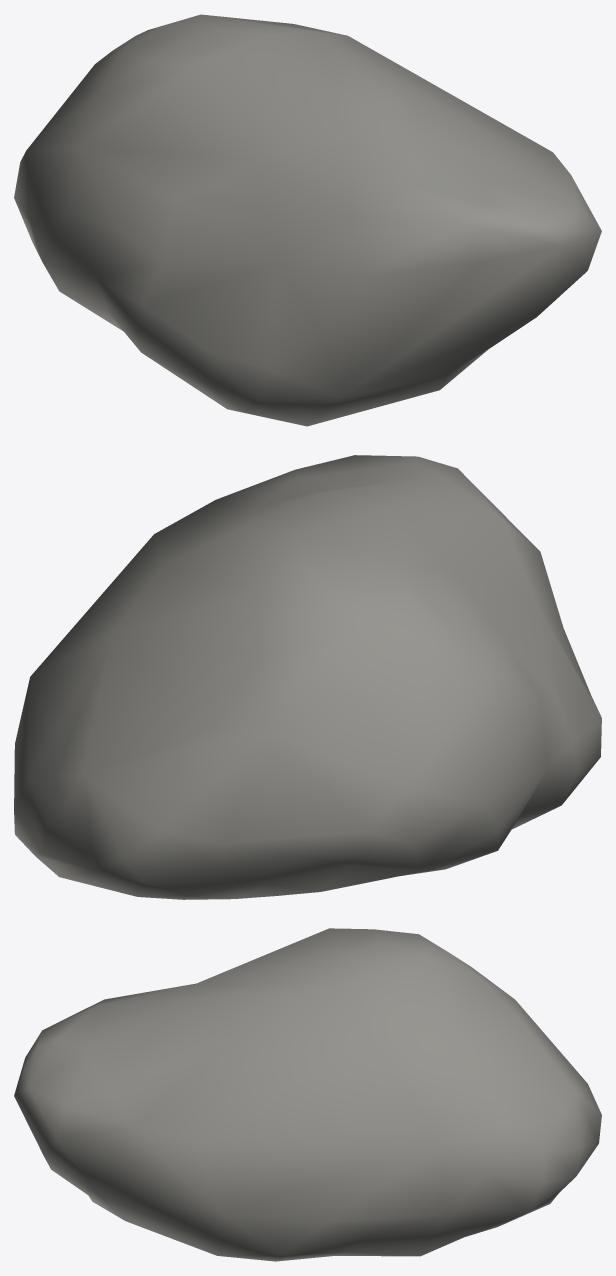
File: Sm_Rocks11L.fbx
3 views of the same model, one above another, from view 1: azimuth 30°, elevation 25°; view 2: azimuth 150°, elevation 25°; view 3: azimuth 270°, elevation 25° (orthographic). The views are drawn at different scales.
Parts seen in each view (by area): view 1: Sm_Rocks11L; view 2: Sm_Rocks11L; view 3: Sm_Rocks11L.
Part boxes in pixels (box(x1,y1,x2,y2)): Sm_Rocks11L: box(14, 14, 601, 426); Sm_Rocks11L: box(14, 455, 601, 899); Sm_Rocks11L: box(14, 928, 601, 1261).
Bounding box in the file's own units: 44.63 × 27.97 × 58.91.
